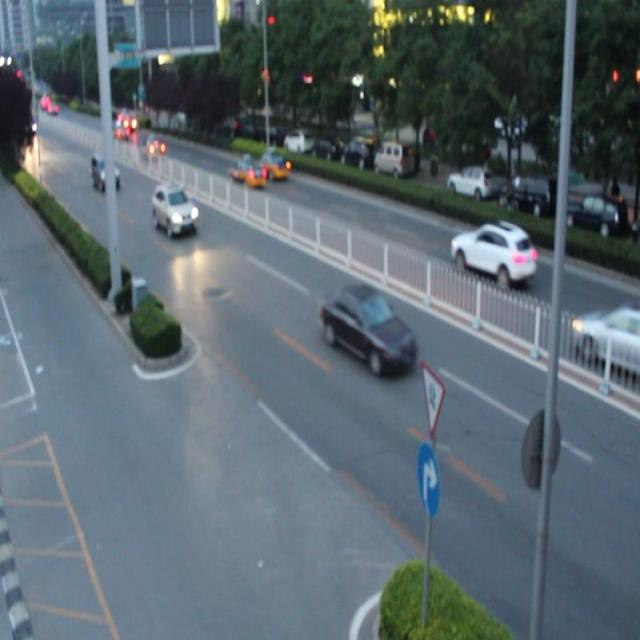car: (322, 283, 414, 374), (568, 302, 640, 374), (450, 224, 535, 283), (150, 185, 196, 233), (252, 145, 289, 182), (226, 156, 265, 191), (90, 152, 119, 191)
